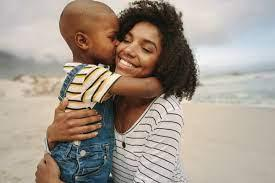Persons: (113, 0, 188, 96), (57, 0, 119, 71)
